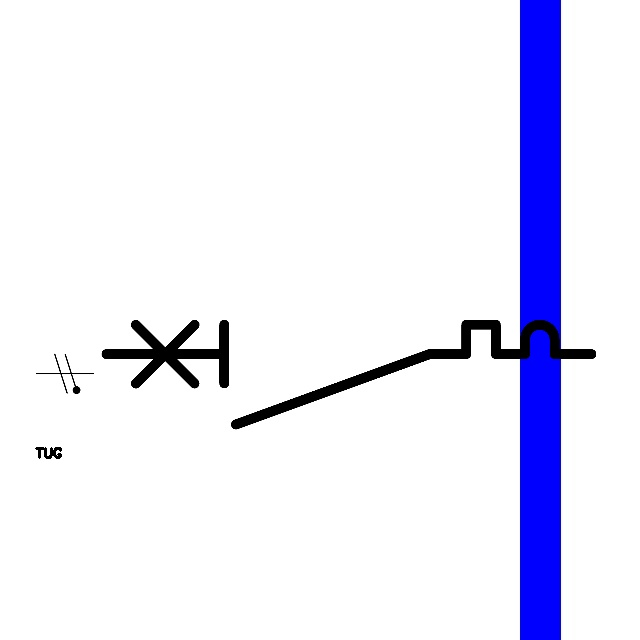interruptor_termomagnetico: (93, 312, 604, 437)
